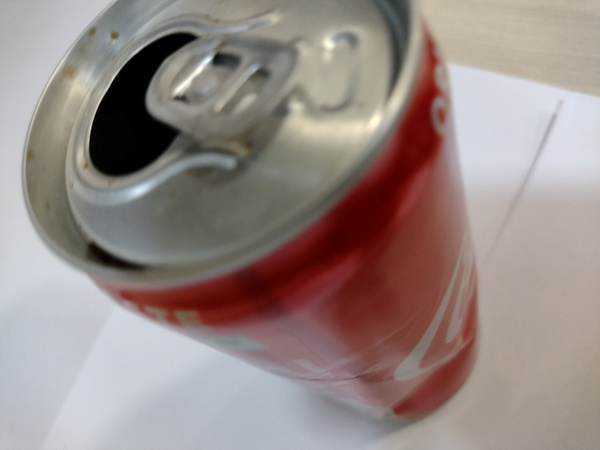can: (16, 1, 490, 437)
